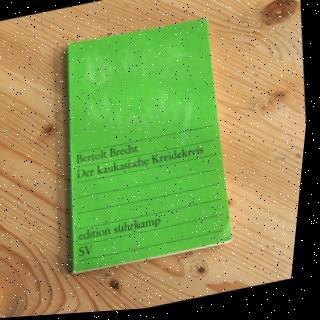book: (33, 36, 252, 269)
